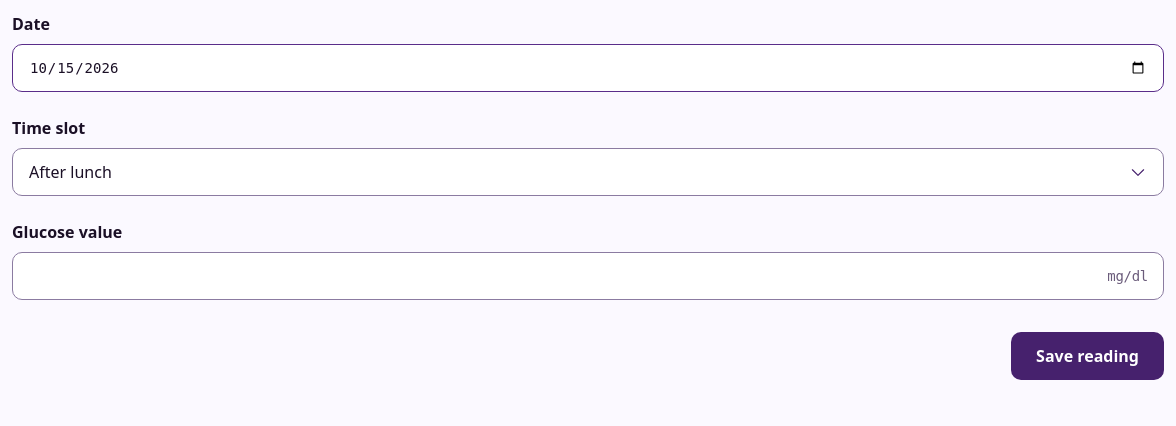
Test: ReadingForm › rejects a value outside 40 to 600
Type "700" into the field labelled "Glucose value". click: [588, 276]
box: x1=12 y1=252 x2=1164 y2=300
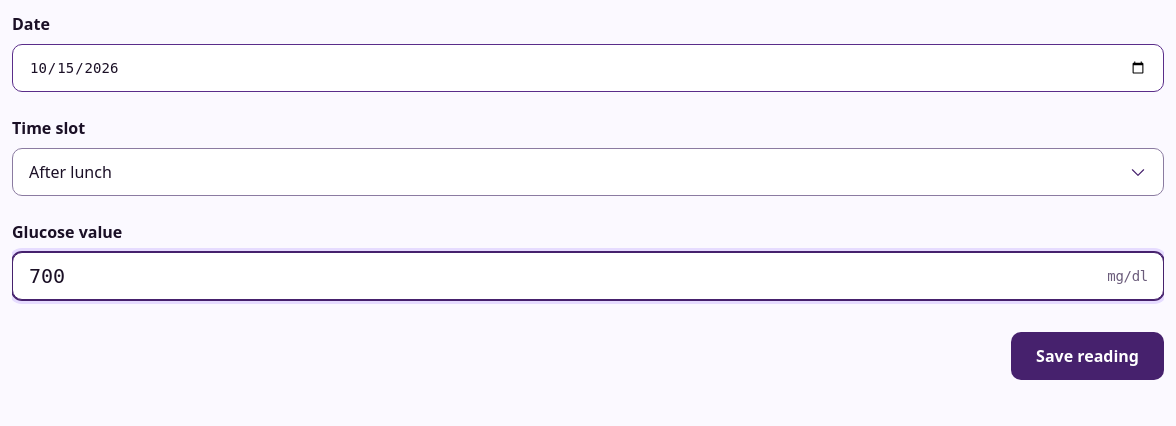
Click the button "Save reading". click: [1088, 356]
box: x1=1011 y1=332 x2=1164 y2=380
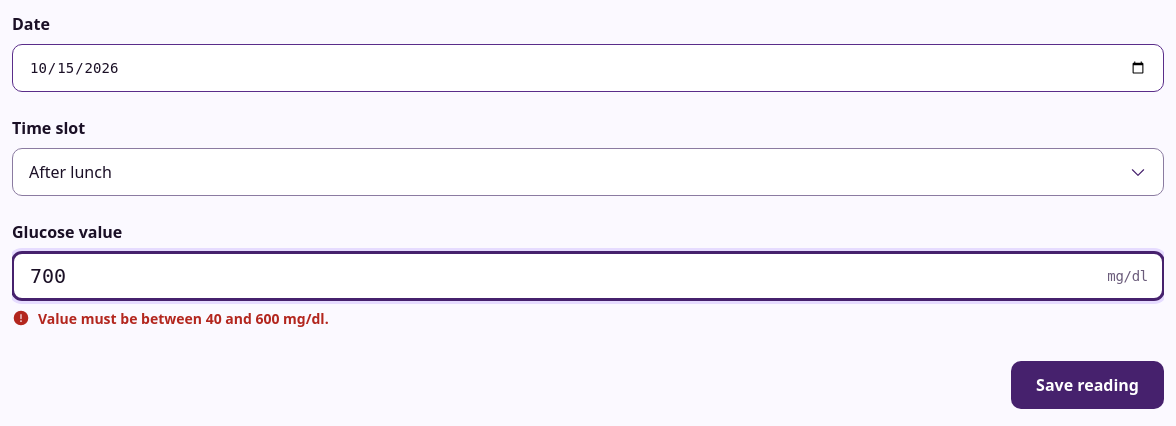
Expected: the text "Value must be between 40 and 600 mg/dl." is shown, x1=38 y1=308 x2=329 y2=329
